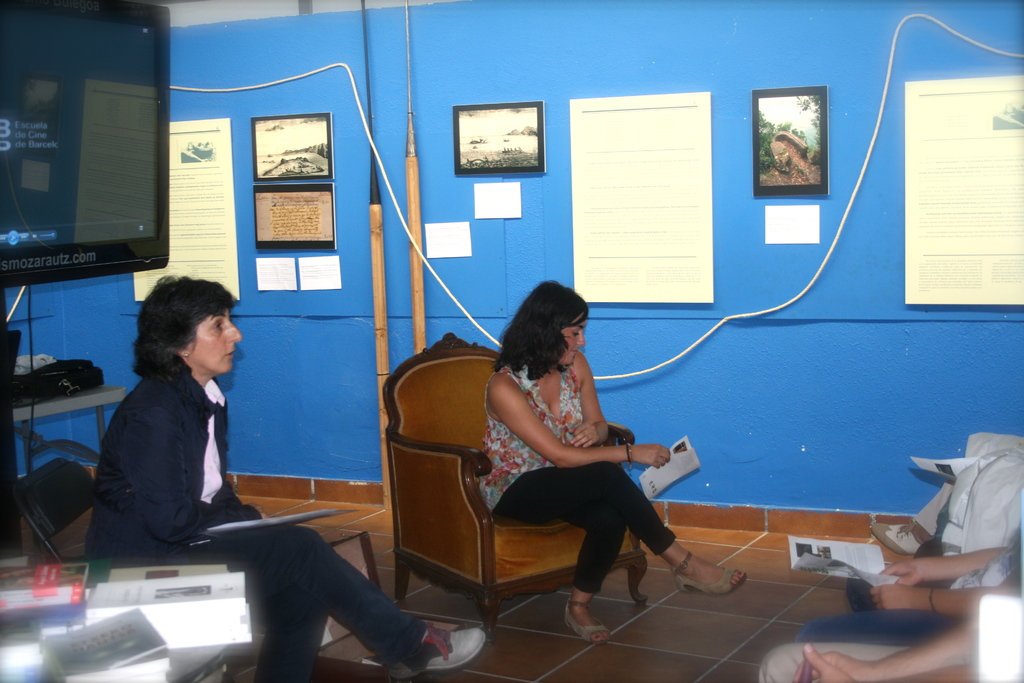Human_hand: (793, 648, 861, 682), (804, 645, 856, 682), (870, 583, 920, 613), (879, 558, 924, 586), (570, 422, 598, 453), (632, 443, 668, 464)
